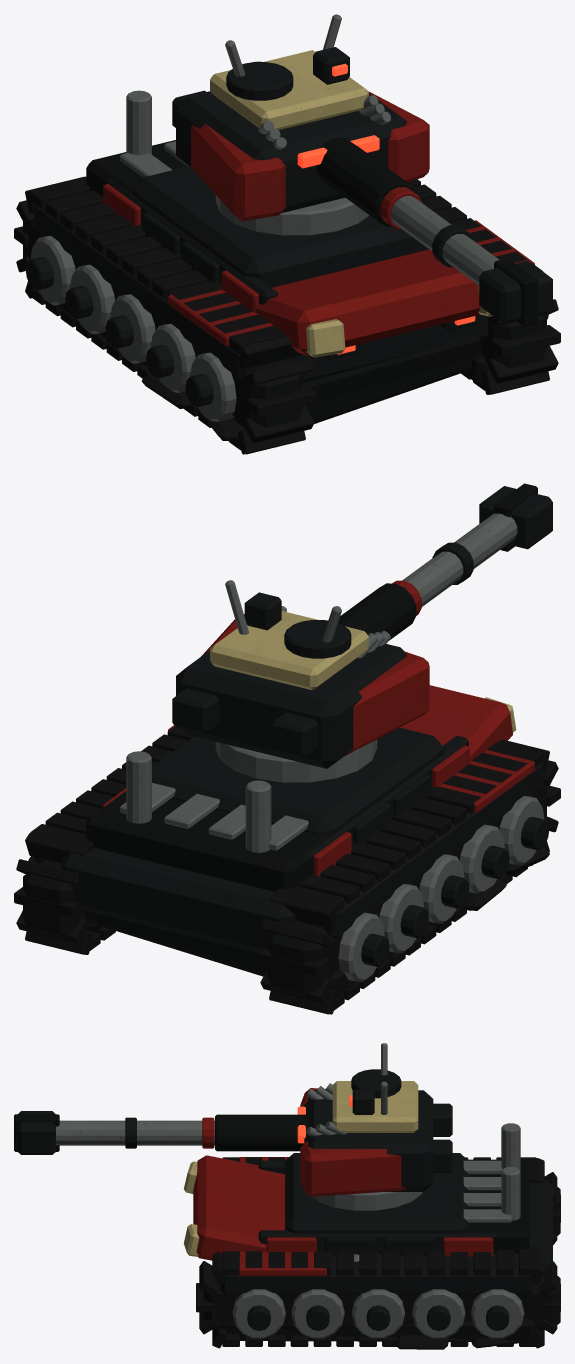
File: ff_en_mbt_01_v1.glb
3 views of the same model, one above another, from view 1: azimuth 30°, elevation 25°; view 2: azimuth 150°, elevation 25°; view 3: azimuth 270°, elevation 25° (orthographic). The views are drawn at different scales.
Parts seen in each view (by area): view 1: FF_EN_MBT_01_M_EnemyObsidianArmor_runtime, FF_EN_MBT_01_M_EnemyTrack_runtime, FF_EN_MBT_01_M_EnemyCrimsonArmor_runtime, turret_yaw_M_EnemyObsidianArmor_runtime, FF_EN_MBT_01_M_EnemyGunmetal_runtime, turret_yaw_M_EnemyCrimsonArmor_runtime, turret_yaw_M_EnemyGunmetal_runtime, wreck_chassis, turret_yaw_M_EnemyMarking_runtime, turret_yaw_M_EnemyRecess_runtime, FF_EN_MBT_01_M_EnemyRecess_runtime, wreck_track_debris (+2 smaller); view 2: FF_EN_MBT_01_M_EnemyObsidianArmor_runtime, FF_EN_MBT_01_M_EnemyTrack_runtime, turret_yaw_M_EnemyObsidianArmor_runtime, FF_EN_MBT_01_M_EnemyGunmetal_runtime, FF_EN_MBT_01_M_EnemyRecess_runtime, turret_yaw_M_EnemyGunmetal_runtime, FF_EN_MBT_01_M_EnemyCrimsonArmor_runtime, turret_yaw_M_EnemyMarking_runtime, turret_yaw_M_EnemyCrimsonArmor_runtime, turret_yaw_M_EnemyRecess_runtime, wreck_chassis, wreck_track_debris; view 3: FF_EN_MBT_01_M_EnemyObsidianArmor_runtime, FF_EN_MBT_01_M_EnemyTrack_runtime, FF_EN_MBT_01_M_EnemyGunmetal_runtime, FF_EN_MBT_01_M_EnemyCrimsonArmor_runtime, turret_yaw_M_EnemyObsidianArmor_runtime, turret_yaw_M_EnemyGunmetal_runtime, turret_yaw_M_EnemyCrimsonArmor_runtime, turret_yaw_M_EnemyRecess_runtime, turret_yaw_M_EnemyMarking_runtime, wreck_track_debris, FF_EN_MBT_01_M_EnemyRecess_runtime, FF_EN_MBT_01_M_EnemyMarking_runtime.
Part boxes in pixels (<box>): FF_EN_MBT_01_M_EnemyObsidianArmor_runtime: <box>25,166,548,406</box>; FF_EN_MBT_01_M_EnemyTrack_runtime: <box>14,176,560,454</box>; FF_EN_MBT_01_M_EnemyCrimsonArmor_runtime: <box>103,184,534,356</box>; turret_yaw_M_EnemyObsidianArmor_runtime: <box>172,47,552,323</box>; FF_EN_MBT_01_M_EnemyGunmetal_runtime: <box>30,61,261,421</box>; turret_yaw_M_EnemyCrimsonArmor_runtime: <box>190,91,429,229</box>; turret_yaw_M_EnemyGunmetal_runtime: <box>215,14,499,285</box>; wreck_chassis: <box>303,332,481,423</box>; turret_yaw_M_EnemyMarking_runtime: <box>210,50,368,130</box>; turret_yaw_M_EnemyRecess_runtime: <box>316,137,537,326</box>; FF_EN_MBT_01_M_EnemyRecess_runtime: <box>86,140,186,196</box>; wreck_track_debris: <box>35,289,489,440</box>; FF_EN_MBT_01_M_EnemyObsidianArmor_runtime: <box>28,727,549,966</box>; FF_EN_MBT_01_M_EnemyTrack_runtime: <box>14,726,560,1014</box>; turret_yaw_M_EnemyObsidianArmor_runtime: <box>172,486,552,768</box>; FF_EN_MBT_01_M_EnemyGunmetal_runtime: <box>34,751,544,982</box>; FF_EN_MBT_01_M_EnemyRecess_runtime: <box>86,791,332,891</box>; turret_yaw_M_EnemyGunmetal_runtime: <box>215,513,517,782</box>; FF_EN_MBT_01_M_EnemyCrimsonArmor_runtime: <box>103,685,534,876</box>; turret_yaw_M_EnemyMarking_runtime: <box>210,611,368,690</box>; turret_yaw_M_EnemyCrimsonArmor_runtime: <box>201,580,429,756</box>; turret_yaw_M_EnemyRecess_runtime: <box>338,483,537,640</box>; wreck_chassis: <box>85,911,266,976</box>; wreck_track_debris: <box>85,847,549,998</box>; FF_EN_MBT_01_M_EnemyObsidianArmor_runtime: <box>220,1153,552,1330</box>; FF_EN_MBT_01_M_EnemyTrack_runtime: <box>196,1157,560,1348</box>; FF_EN_MBT_01_M_EnemyGunmetal_runtime: <box>232,1123,524,1338</box>; FF_EN_MBT_01_M_EnemyCrimsonArmor_runtime: <box>193,1155,493,1275</box>; turret_yaw_M_EnemyObsidianArmor_runtime: <box>17,1069,452,1191</box>; turret_yaw_M_EnemyGunmetal_runtime: <box>56,1043,422,1210</box>; turret_yaw_M_EnemyCrimsonArmor_runtime: <box>202,1088,405,1196</box>; turret_yaw_M_EnemyRecess_runtime: <box>14,1114,309,1151</box>; turret_yaw_M_EnemyMarking_runtime: <box>332,1081,418,1132</box>; wreck_track_debris: <box>226,1319,535,1349</box>; FF_EN_MBT_01_M_EnemyRecess_runtime: <box>460,1159,529,1253</box>; FF_EN_MBT_01_M_EnemyMarking_runtime: <box>183,1161,199,1256</box>.
Bounding box in the file's own units: 4.1 × 3.48 × 7.43.
Materials: 7 (6 with a texture image).
